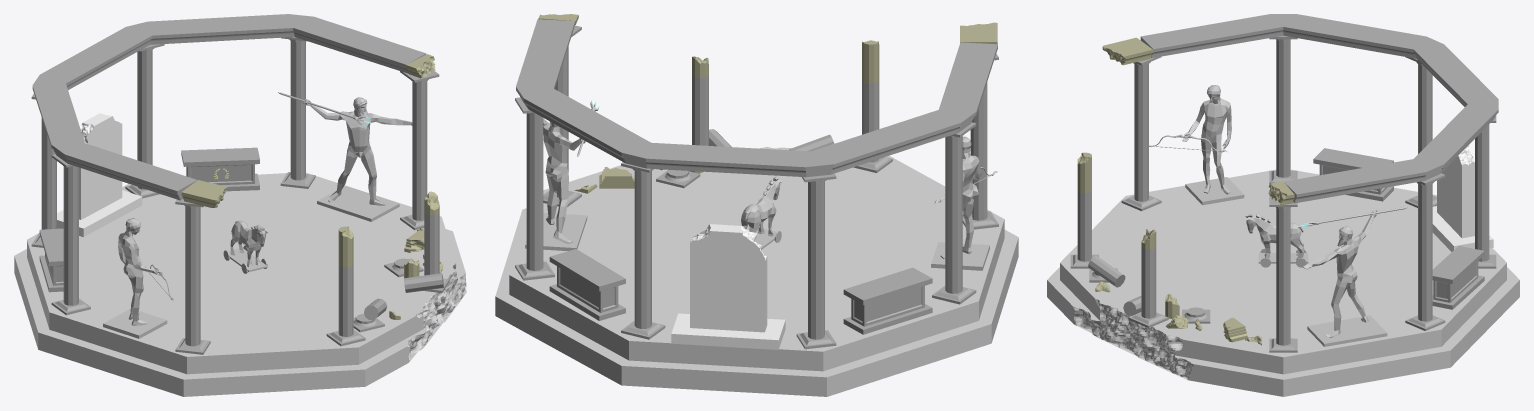
File: M_Room_0.fbx
The picture shows the model from 3 angles, left to right: view 1: azimuth 30°, elevation 25°; view 2: azimuth 150°, elevation 25°; view 3: azimuth 270°, elevation 25°; orthographic projection. The views are drawn at different scales.
Parts seen in each view (by area): view 1: M_Room0_Floor_D, M_Architrave0, M_Column_Block2 (×8), M_Room0_Stone_D, M_Column_Block3 (×6), M_Column_Block1 (×6), M_Wall_Low1_2, M_Column_Block4 (×5), M_Statue_Poseidon2, M_Statue_Ephebe1, M_Statue_P_Platform, M_Wall_Low1_1 (+6 smaller); view 2: M_Room0_Floor_D, M_Architrave0, M_Room0_Stone_D, M_Column_Block2 (×7), M_Wall_Low1_1, M_Column_Block1 (×6), M_Wall_Low1_2, M_Column_Block3 (×5), M_Column_Block4 (×4), M_Statue_Poseidon2, M_Statue_Ephebe1, M_Column_Base1 (×3) (+7 smaller); view 3: M_Room0_Floor_D, M_Architrave0, M_Column_Block3 (×7), M_Column_Block2 (×7), M_Column_Block1 (×7), M_Room0_Stone_D, M_Column_Block4 (×6), M_Wall_Low1_2, M_Statue_Ephebe1, M_Statue_Poseidon2, M_Wall_Low1_1, M_Statue_P_Platform (+6 smaller).
Part boxes in pixels (x1,y1,x2,y2): M_Room0_Floor_D: [14, 172, 466, 396]; M_Architrave0: [32, 14, 426, 200]; M_Column_Block2 (×8): [41, 108, 439, 311]; M_Room0_Stone_D: [57, 113, 142, 237]; M_Column_Block3 (×6): [41, 73, 427, 276]; M_Column_Block1 (×6): [63, 142, 439, 346]; M_Wall_Low1_2: [181, 147, 259, 191]; M_Column_Block4 (×5): [63, 41, 427, 241]; M_Statue_Poseidon2: [302, 97, 412, 205]; M_Statue_Ephebe1: [118, 218, 160, 325]; M_Statue_P_Platform: [317, 186, 399, 221]; M_Wall_Low1_1: [39, 228, 63, 292]; M_Room0_Floor_D: [495, 147, 1018, 396]; M_Architrave0: [516, 19, 997, 177]; M_Room0_Stone_D: [671, 224, 785, 349]; M_Column_Block2 (×7): [526, 74, 987, 300]; M_Wall_Low1_1: [843, 267, 932, 334]; M_Column_Block1 (×6): [526, 113, 987, 339]; M_Wall_Low1_2: [549, 249, 625, 320]; M_Column_Block3 (×5): [526, 100, 987, 260]; M_Column_Block4 (×4): [526, 113, 962, 221]; M_Statue_Poseidon2: [543, 118, 585, 243]; M_Statue_Ephebe1: [940, 136, 981, 258]; M_Column_Base1 (×3): [515, 261, 976, 349]; M_Room0_Floor_D: [1047, 169, 1519, 396]; M_Architrave0: [1140, 14, 1498, 203]; M_Column_Block3 (×7): [1088, 73, 1489, 287]; M_Column_Block2 (×7): [1077, 107, 1489, 311]; M_Column_Block1 (×7): [1077, 141, 1489, 345]; M_Room0_Stone_D: [1432, 145, 1493, 251]; M_Column_Block4 (×6): [1134, 40, 1489, 242]; M_Wall_Low1_2: [1432, 246, 1484, 309]; M_Statue_Ephebe1: [1182, 85, 1231, 194]; M_Statue_Poseidon2: [1302, 210, 1377, 337]; M_Wall_Low1_1: [1313, 148, 1393, 201]; M_Statue_P_Platform: [1307, 315, 1387, 346].
Bounding box in the file's own units: 50 × 22.5 × 50.
